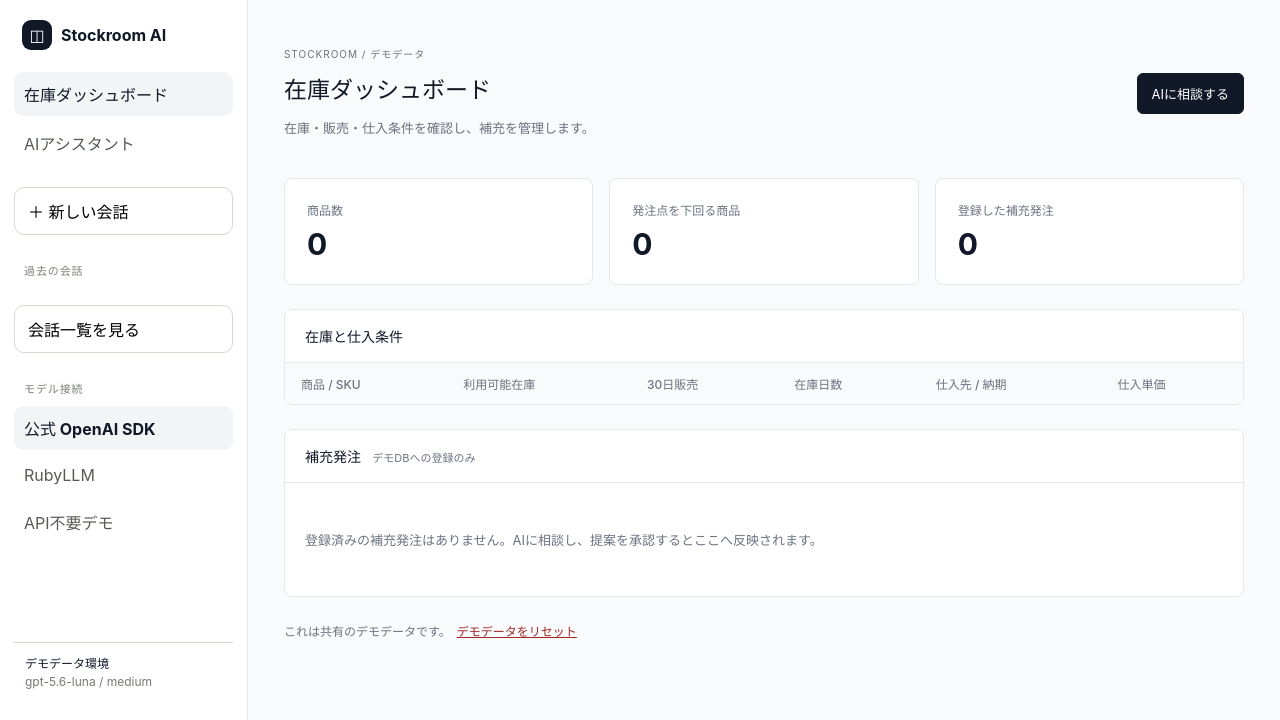
Test case: inventory SaaS client › uses standard approval response and automatic continuation
The image size is (1280, 720).
Step 1. Click the button with test id "nav-chat" → [124, 143], box [14,121,233,165]
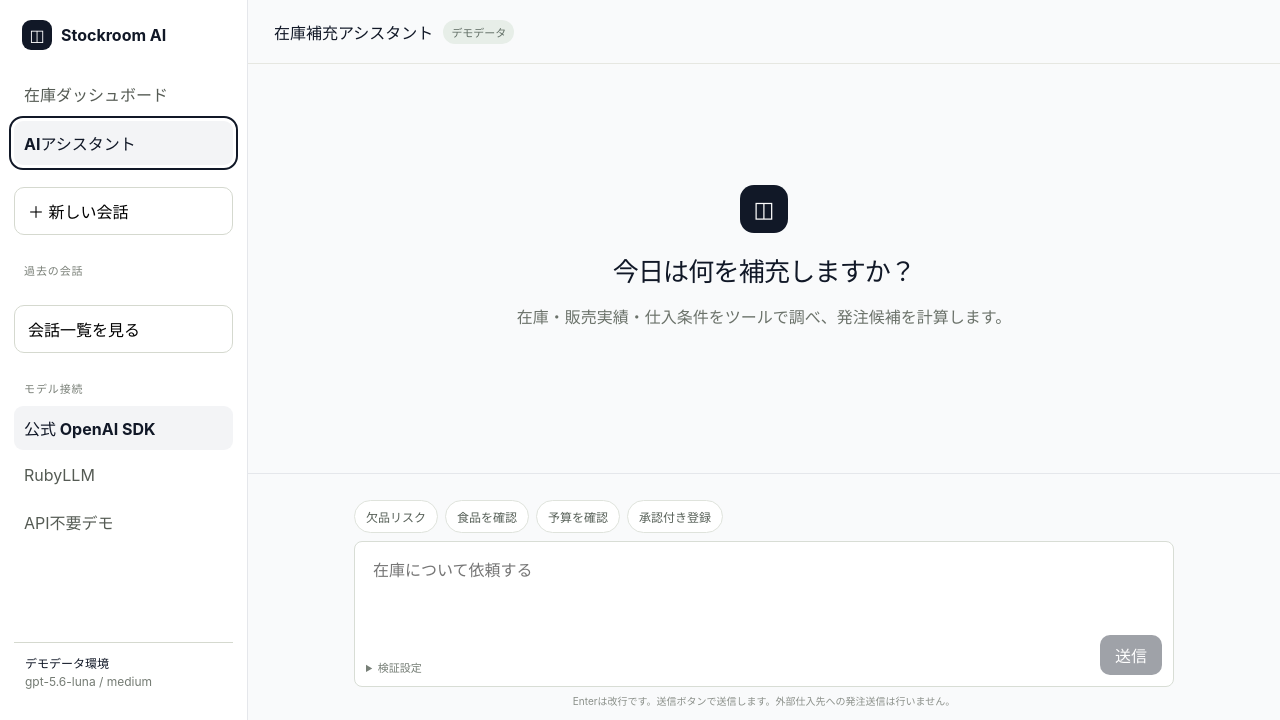
Step 2. Type "登録して" into the text box with test id "composer" showing "在庫について依頼する" → [764, 594], box [366,553,1162,635]
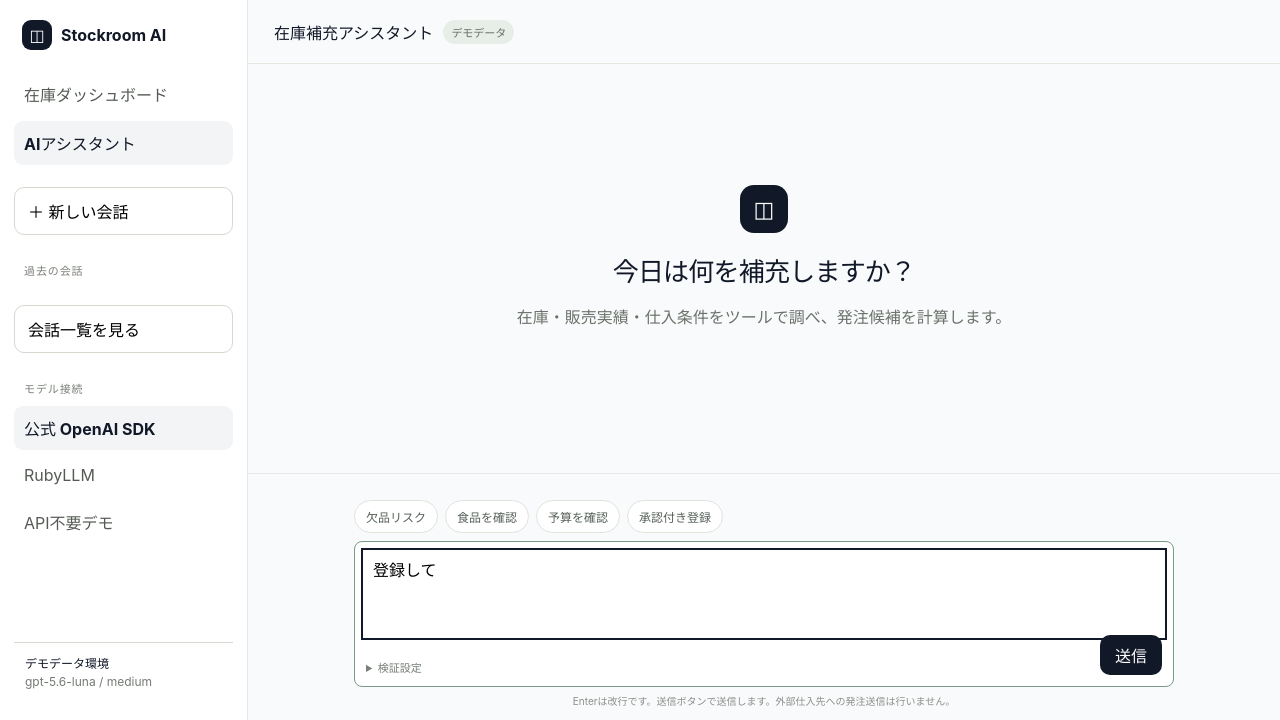
Step 3. Click the button with test id "send" → [1131, 655], box [1100,635,1162,675]
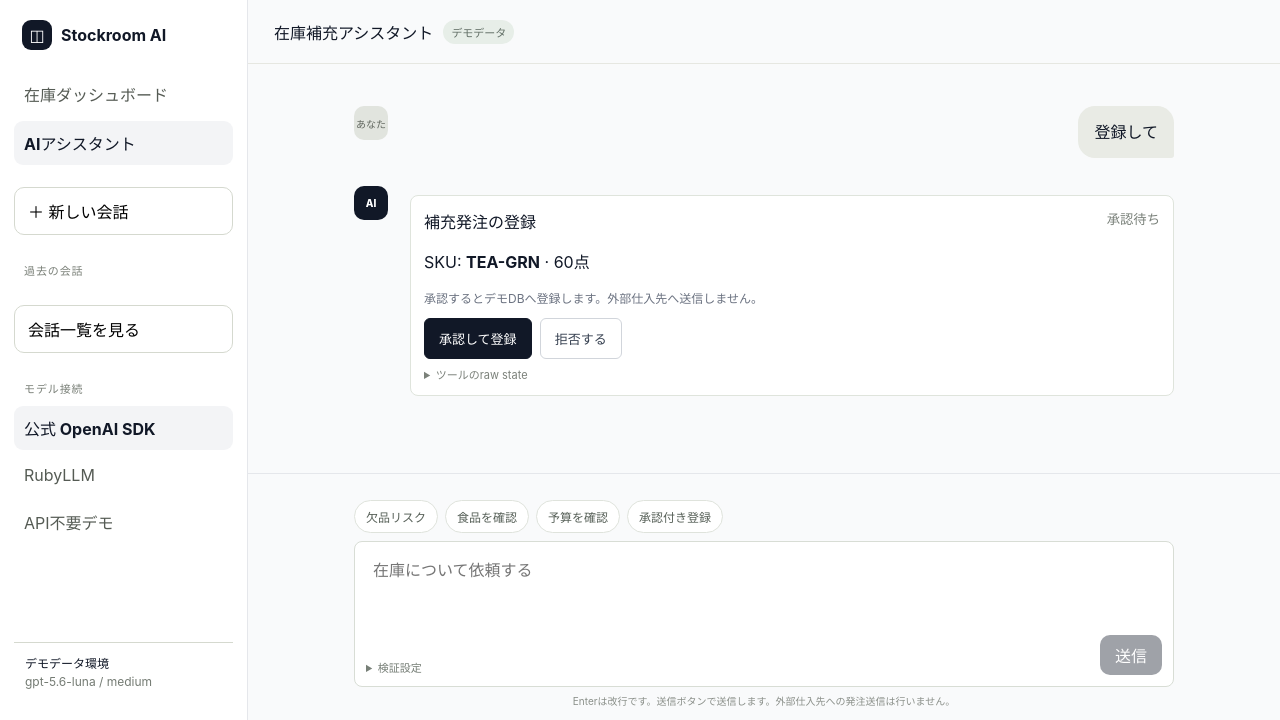
Check: the button with test id "approve" is shown
Step 4. Click the button with test id "approve" → [478, 338], box [424,318,532,359]
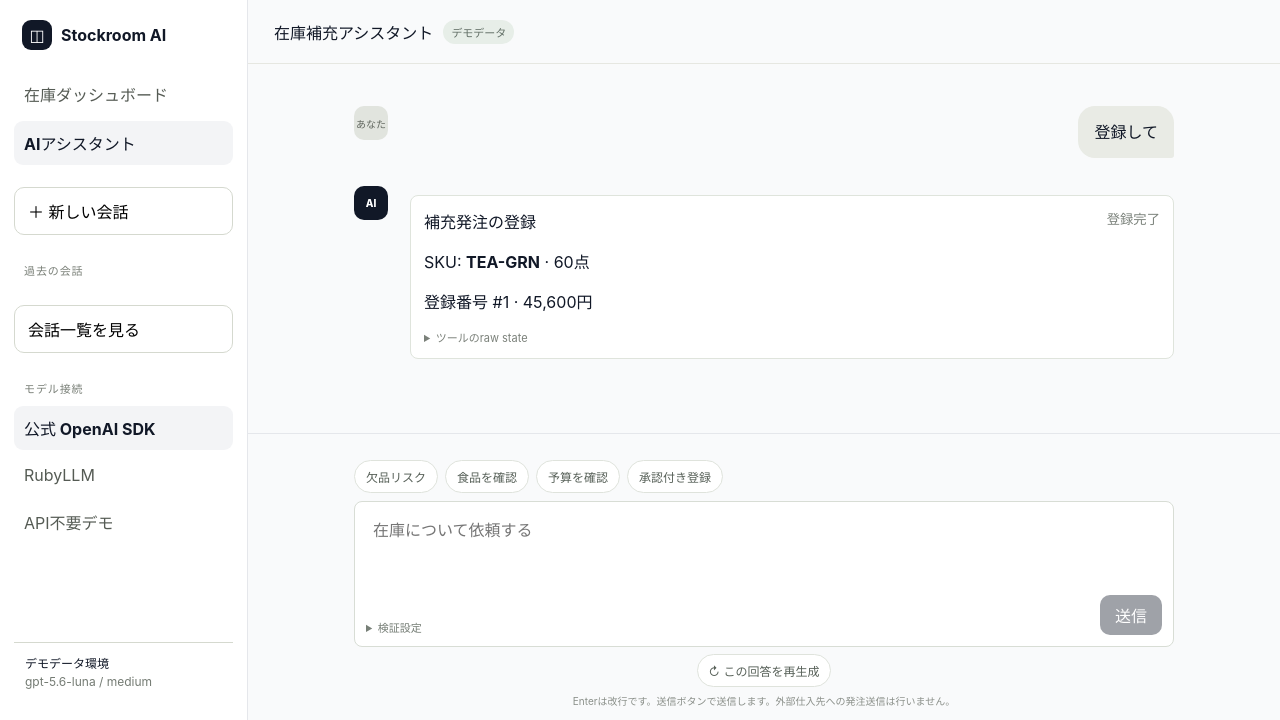
Check: the number of elements with test id "message-assistant" is 1, box [354,186,1174,368]
Check: the text "登録番号 #1 · 45,600円" is shown, box [424,292,592,312]
